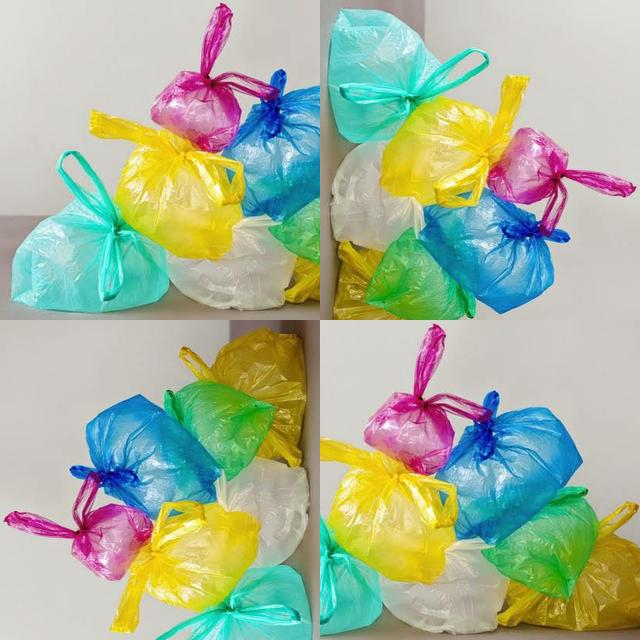Single-layer Plastic: (11, 151, 169, 312), (90, 111, 245, 260), (436, 391, 582, 544), (328, 10, 489, 142), (320, 439, 458, 583), (380, 75, 529, 208), (111, 501, 260, 632), (364, 325, 492, 474), (151, 4, 279, 152), (419, 189, 570, 314), (70, 395, 221, 519), (498, 502, 640, 631), (180, 329, 306, 466), (488, 128, 636, 237), (5, 471, 152, 580), (222, 70, 320, 221), (482, 486, 599, 598), (380, 539, 509, 634), (168, 215, 296, 309), (156, 565, 311, 639), (165, 380, 275, 480), (331, 141, 425, 251), (215, 456, 309, 566), (365, 229, 475, 319), (320, 519, 382, 635), (334, 241, 400, 320), (269, 198, 320, 264), (284, 256, 320, 303)
